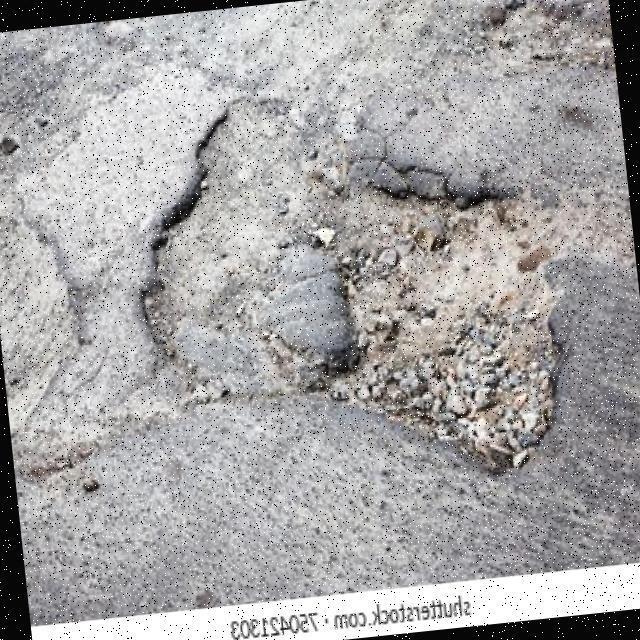Pothole: (136, 95, 563, 479), (0, 193, 80, 433), (477, 0, 606, 75)
